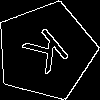K: (21, 26, 78, 82)
